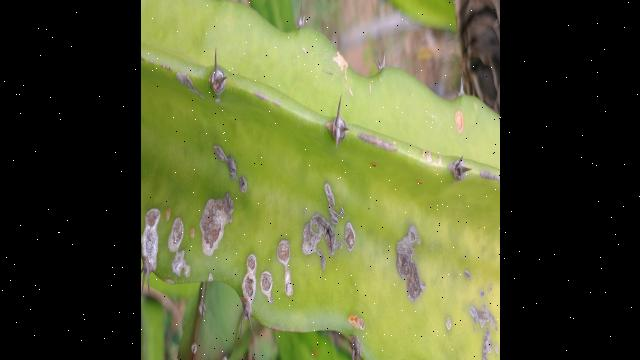stemcanker: (441, 95, 478, 141), (343, 308, 372, 332)
